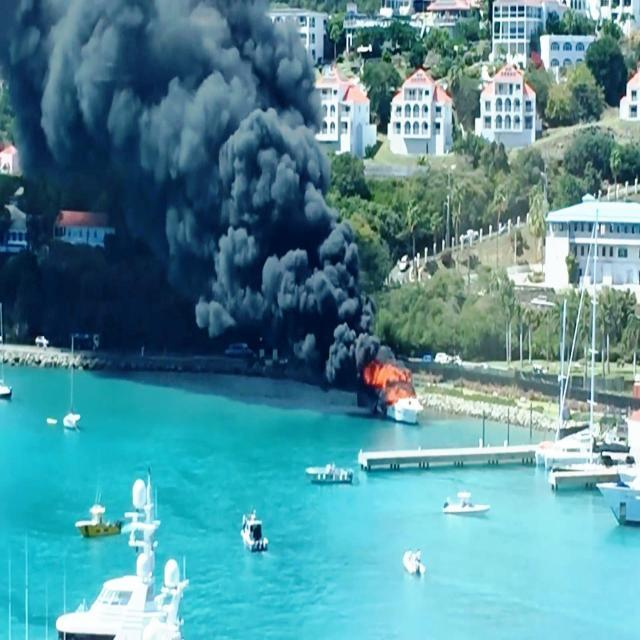Smoke: (0, 5, 299, 178), (126, 3, 312, 274), (212, 109, 325, 328), (316, 216, 366, 382)
